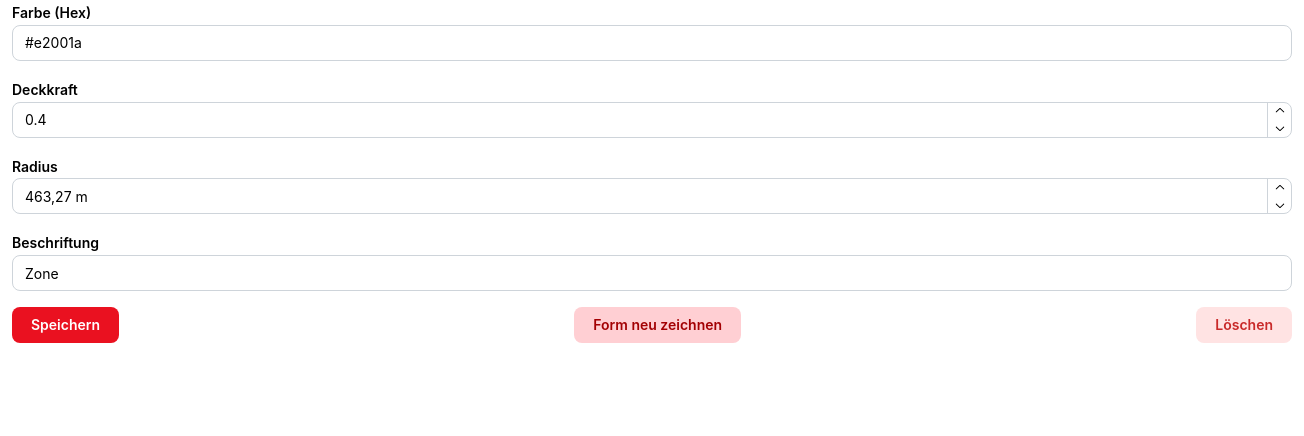
Test: AreaEditor › rejects a empty radius with an error and does not save
Clear the field labelled "Radius" at (652, 196), box [12,178,1292,214]
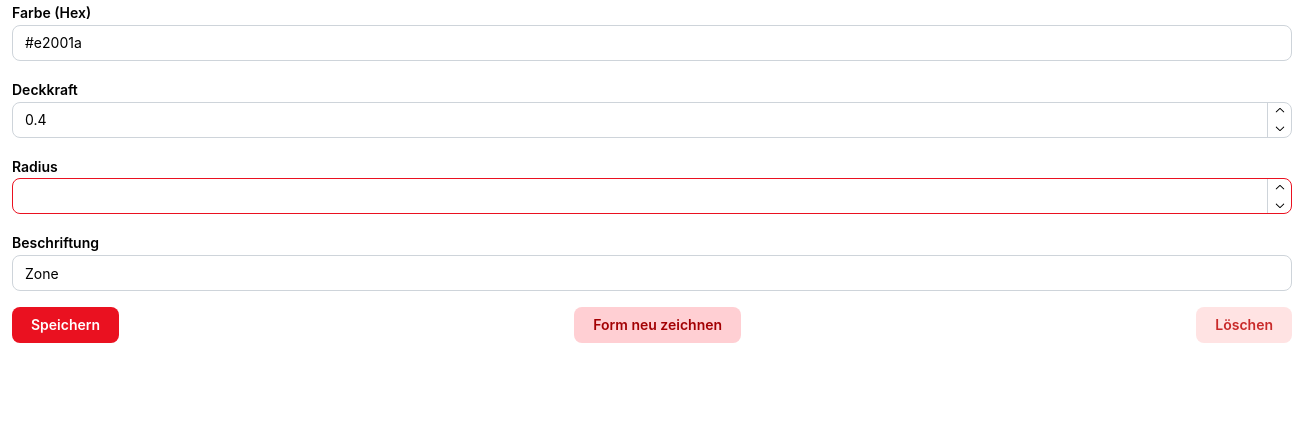
Click the button "Speichern" at (66, 325), box [12,307,119,343]
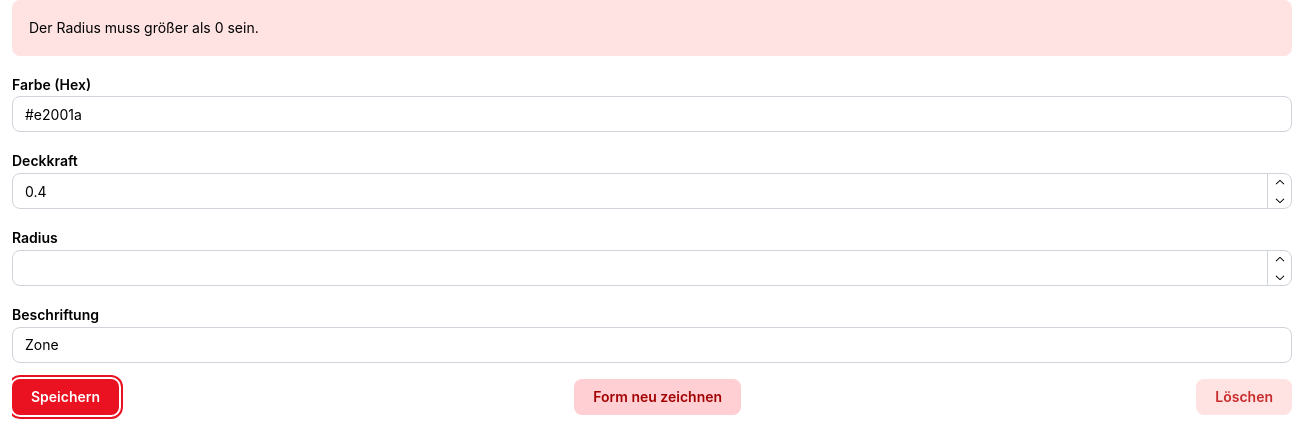
Expected: the message reads "Der Radius muss größer als 0 sein.", [29,19,259,36]
